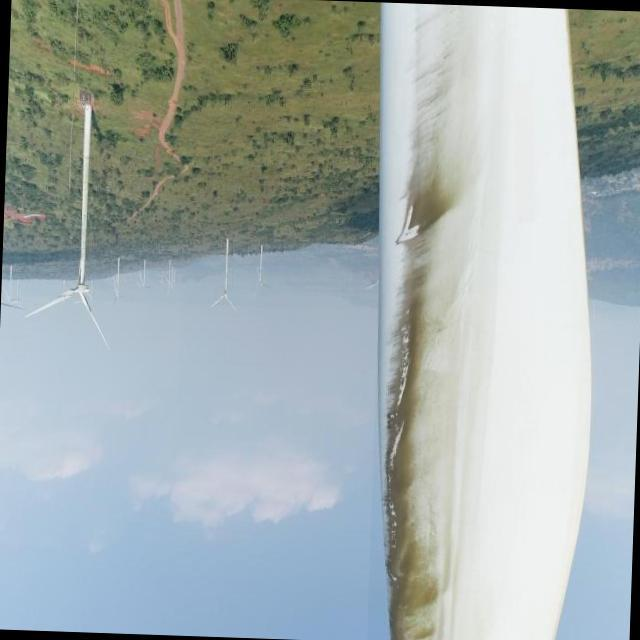Dirt: (382, 1, 479, 640)
